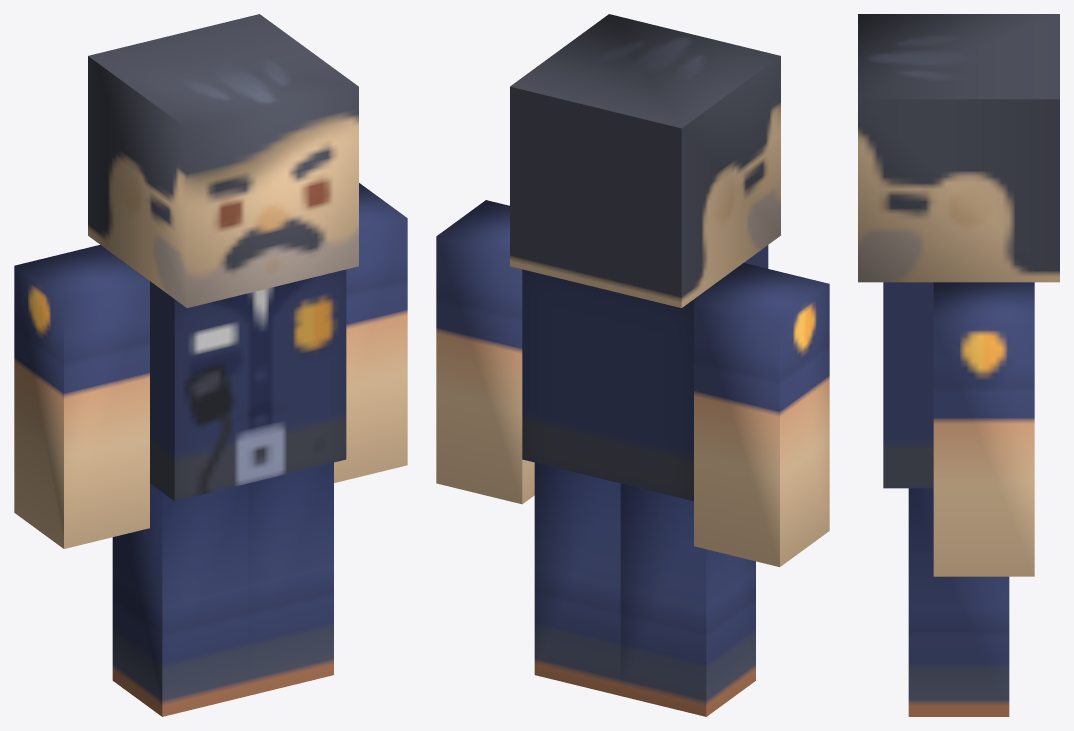
File: peaton-6.glb
The picture shows the model from 3 angles, left to right: view 1: azimuth 30°, elevation 25°; view 2: azimuth 150°, elevation 25°; view 3: azimuth 270°, elevation 25°; orthographic projection.
Parts seen in each view (by area): view 1: peaton-6; view 2: peaton-6; view 3: peaton-6.
Boxes of the visible parts, box(x1,y1,x2,y2) form: peaton-6: box(14, 14, 407, 716); peaton-6: box(436, 14, 829, 716); peaton-6: box(858, 14, 1059, 716).
Bounding box in the file's own units: 1.04 × 1.75 × 0.5185.
1 material, 1 textured.
